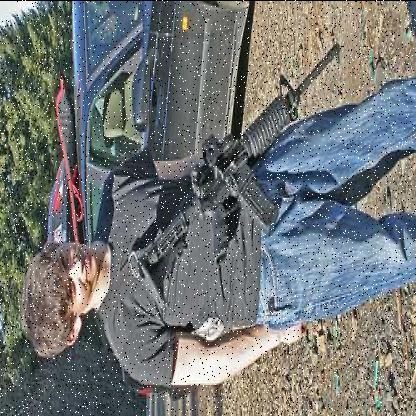rifle: (135, 24, 348, 282)
